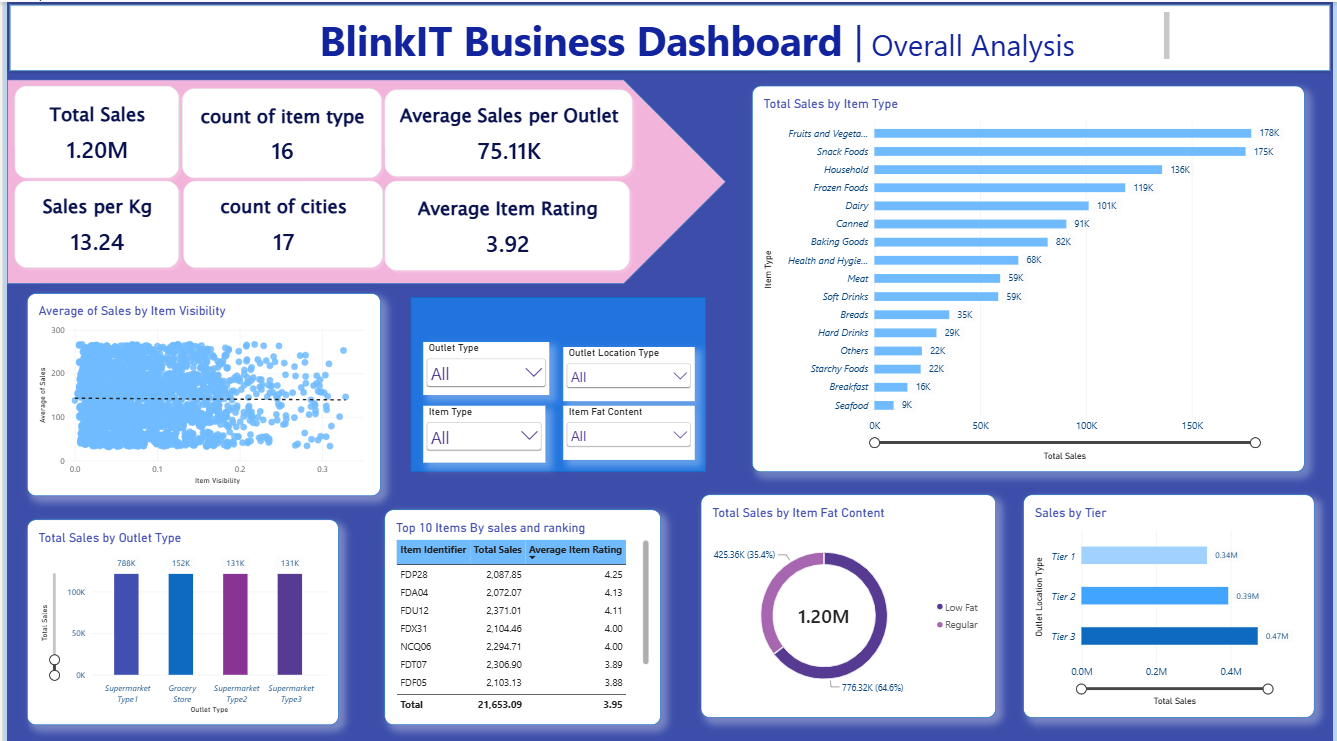

What the dashboard file says about the page in this screenshot:
{"tool":"powerbi","page":{"name":"final Dash board","canvas":[1920,1080],"ordinal":2},"visuals":[{"type":"shape","box":[0,0,1919.6,103.9],"z":0},{"type":"shape","box":[0,111.8,1041.2,296.1],"z":1000},{"type":"shape","box":[584.3,427.5,427.5,252.9],"z":2000},{"type":"cardVisual","fields":{"Data":["Measure.Total Sales"]},"box":[5.9,115.7,249,145.1],"z":3000},{"type":"cardVisual","fields":{"Data":["Measure.Sales per Kg"]},"box":[5.9,252.9,249.2,137.7],"z":4000},{"type":"cardVisual","fields":{"Data":["Measure.Average Sales per Outlet"]},"box":[541.2,121.6,370.6,137.3],"z":5000},{"type":"cardVisual","fields":{"Data":["Measure.Average Item Ranking"]},"box":[541.2,252.9,366.7,141.2],"z":6000},{"type":"clusteredBarChart","fields":{"Category":["Items.Item Type"],"Y":["Measure.Total Sales"]},"box":[1078.4,121.6,800,558.8],"z":7000},{"type":"clusteredColumnChart","fields":{"Category":["Outlet Info.Outlet Type"],"Y":["Measure.Total Sales"]},"box":[28.6,750,451.3,297.4],"z":8000},{"type":"clusteredBarChart","title":"Sales by Tier","fields":{"Category":["Outlet Location.Outlet Location Type"],"Y":["Measure.Total Sales"]},"box":[1470.6,713.7,421.6,323.5],"z":9000},{"type":"donutChart","fields":{"Category":["Items Content.Item Fat Content"],"Y":["Measure.Total Sales"]},"box":[1003.9,713.7,427.5,323.5],"z":10000},{"type":"scatterChart","fields":{"X":["BlinkIT Grocery Data.Item Visibility"],"Y":["Avg(BlinkIT Grocery Data.Sales)"]},"box":[29.4,421.6,512.3,293.8],"z":11000},{"type":"tableEx","title":"Top 10 Items By sales and ranking","fields":{"Values":["BlinkIT Grocery Data.Item Identifier","Measure.Total Sales","Measure.Average Item Ranking"]},"box":[547.1,735.3,400,311.8],"z":12000},{"type":"slicer","fields":{"Values":["Outlet Location.Outlet Location Type"]},"box":[805.9,500,190.2,78.4],"z":13000},{"type":"slicer","fields":{"Values":["Outlet Info.Outlet Type"]},"box":[602,492.2,182.4,76.5],"z":14000},{"type":"slicer","fields":{"Values":["Items.Item Type"]},"box":[602,584.3,176.5,82.4],"z":15000},{"type":"slicer","fields":{"Values":["Items Content.Item Fat Content"]},"box":[805.9,584.3,190.2,78.4],"z":16000},{"type":"cardVisual","fields":{"Data":["Measure.count of item type"]},"box":[247.1,119.6,300,141.2],"z":17000},{"type":"cardVisual","fields":{"Data":["Measure.count of cities"]},"box":[249,252.9,300,137.3],"z":18000},{"type":"textbox","box":[321.6,13.7,1360.8,72.5],"z":19000}]}

Visuals, with their boxes in screenshot pixels (x1, y1, x2, y2), scaled from the page's 1920x1080 canvas onto the 1337x741 screenshot:
shape: rect(0, 0, 1336, 71)
shape: rect(0, 77, 725, 280)
shape: rect(407, 293, 705, 467)
cardVisual - Measure.Total Sales: rect(4, 79, 178, 179)
cardVisual - Measure.Sales per Kg: rect(4, 174, 178, 268)
cardVisual - Measure.Average Sales per Outlet: rect(377, 83, 635, 178)
cardVisual - Measure.Average Item Ranking: rect(377, 174, 632, 270)
clusteredBarChart - Items.Item Type x Measure.Total Sales: rect(751, 83, 1308, 467)
clusteredColumnChart - Outlet Info.Outlet Type x Measure.Total Sales: rect(20, 515, 334, 719)
"Sales by Tier" clusteredBarChart: rect(1024, 490, 1318, 712)
donutChart - Items Content.Item Fat Content x Measure.Total Sales: rect(699, 490, 997, 712)
scatterChart - BlinkIT Grocery Data.Item Visibility x Avg(BlinkIT Grocery Data.Sales): rect(20, 289, 377, 491)
"Top 10 Items By sales and ranking" tableEx: rect(381, 504, 660, 718)
slicer - Outlet Location.Outlet Location Type: rect(561, 343, 694, 397)
slicer - Outlet Info.Outlet Type: rect(419, 338, 546, 390)
slicer - Items.Item Type: rect(419, 401, 542, 457)
slicer - Items Content.Item Fat Content: rect(561, 401, 694, 455)
cardVisual - Measure.count of item type: rect(172, 82, 381, 179)
cardVisual - Measure.count of cities: rect(173, 174, 382, 268)
textbox: rect(224, 9, 1172, 59)
